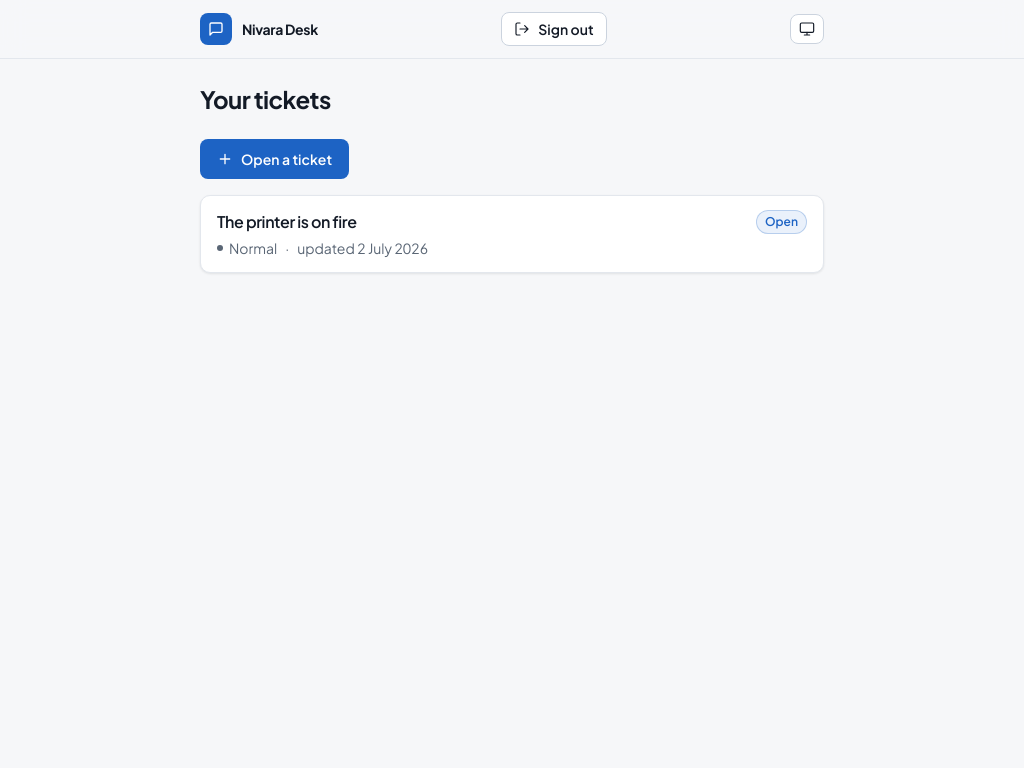
it: replying to a Ticket › shows the reply in the thread
Click the button "The printer is on fire Normal · updated 2 July 2026 Open": (287, 222) [201,196,823,272]
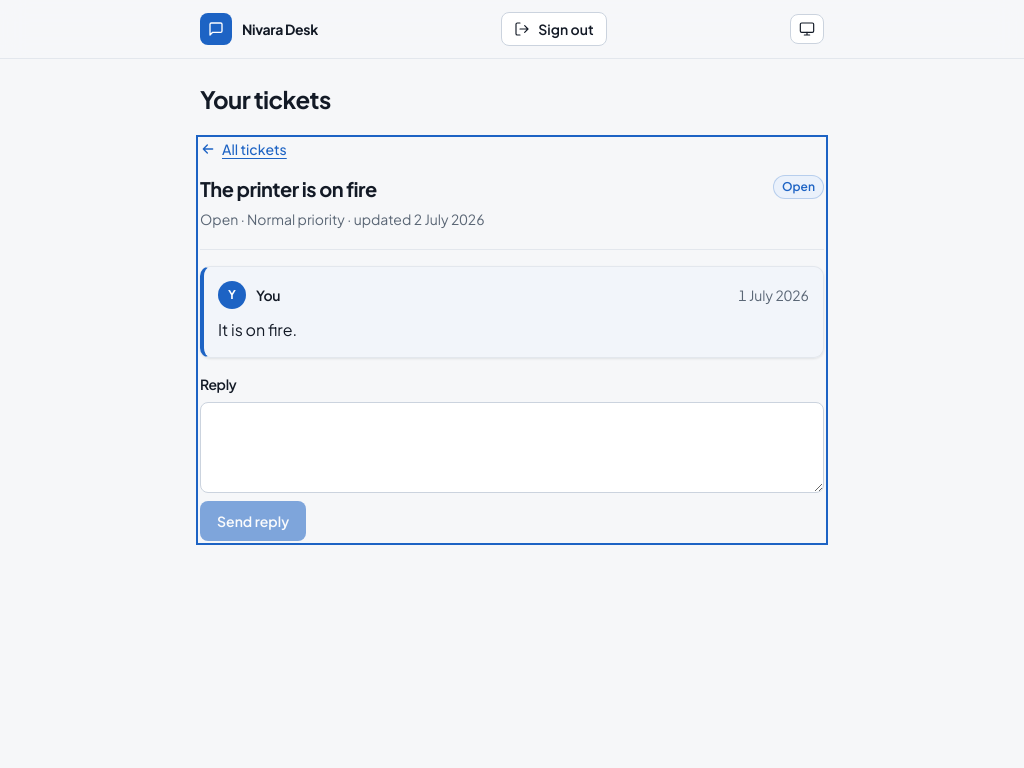
Expected: the list named "conversation" is shown, [200,266,824,358]
In the text box labelled "Reply": (512, 448) [200,402,824,493], type "It is still on fire."
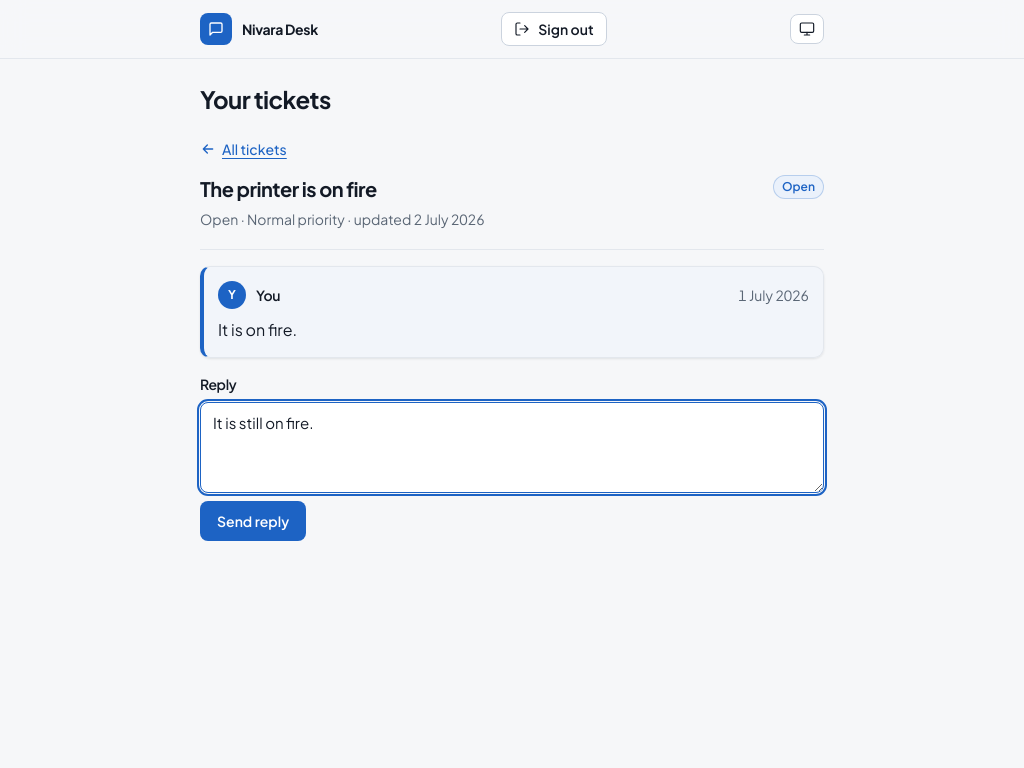
Click the button "Send reply": (253, 521) [200,501,306,541]
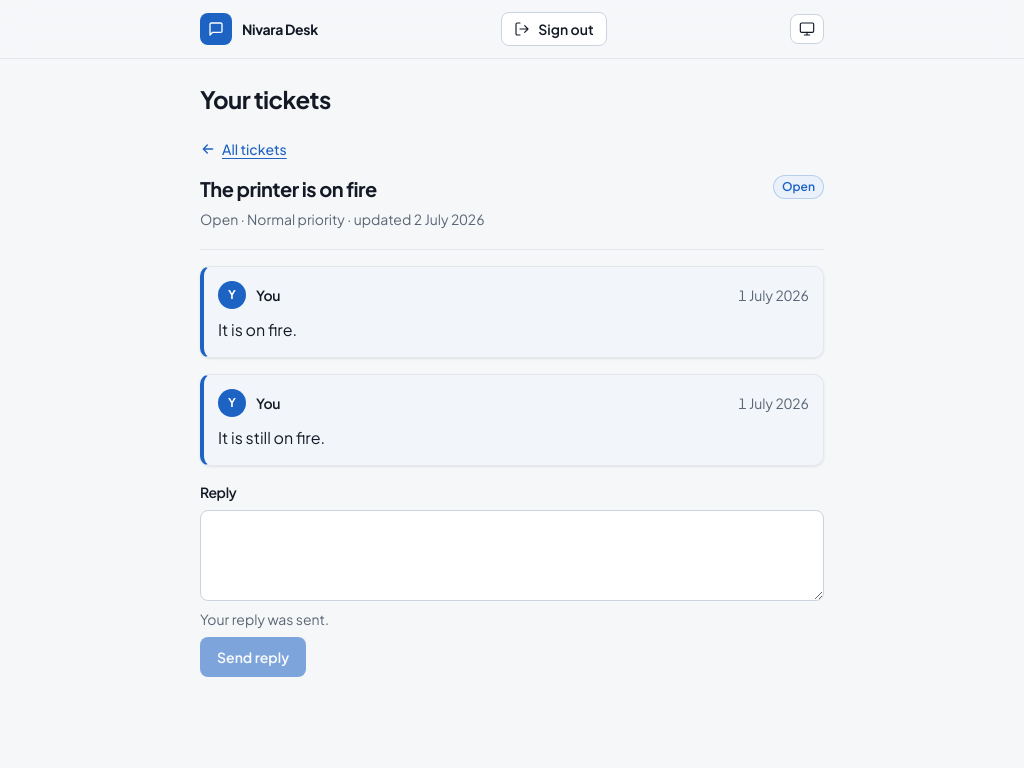
Expected: the text "It is still on fire." is shown, [218,427,325,448]
Expected: the message shows "reply was sent", [200,610,329,628]
